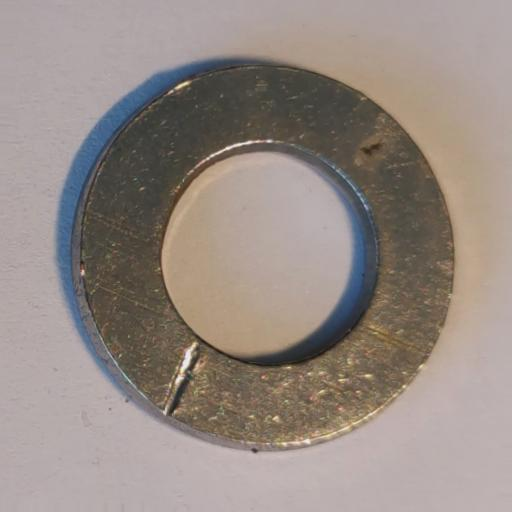scratch: (162, 339, 202, 417)
